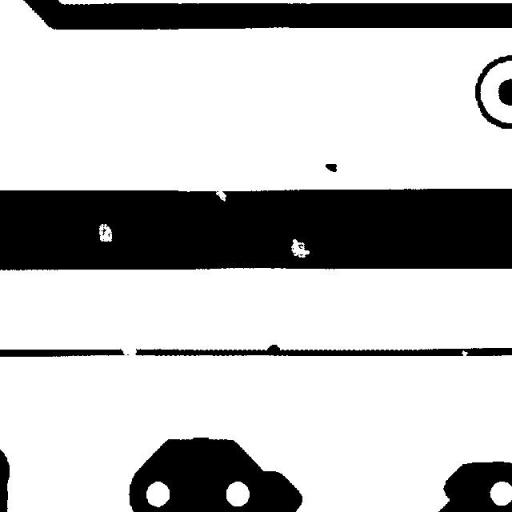copper: (318, 156, 344, 179)
mousebite: (203, 178, 234, 208), (454, 342, 475, 366)
open: (111, 336, 146, 369)
pin-hole: (283, 231, 317, 265), (91, 216, 119, 249)
spur: (259, 337, 287, 360)
